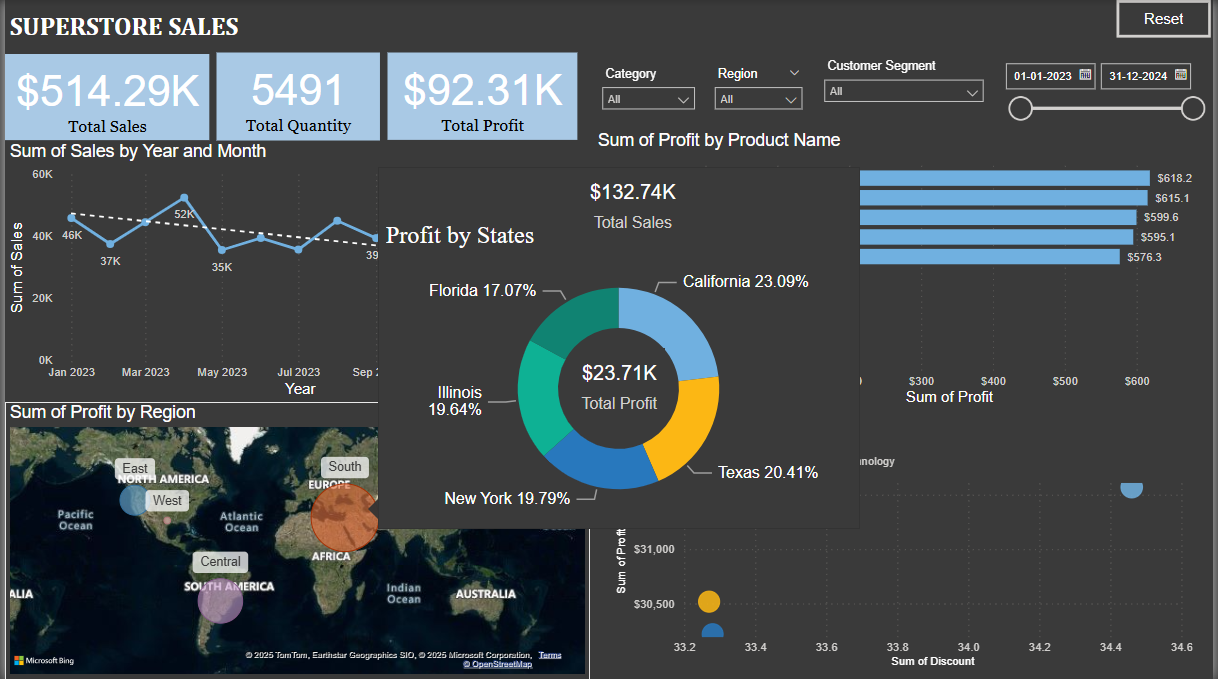

The dashboard page shown, as its layout file describes it:
{"tool":"powerbi","page":{"name":"Report","canvas":[1280,720],"ordinal":0},"visuals":[{"type":"card","fields":{"Values":["Sheet1.Total Sales"]},"box":[0,57.4,216.9,91.4],"z":0},{"type":"card","fields":{"Values":["Sheet1.Total Profit"]},"box":[405.6,56.4,201.3,92.4],"z":1000},{"type":"card","fields":{"Values":["Sheet1.Total Quantity"]},"box":[224.7,56.4,173.1,93.4],"z":2000},{"type":"lineChart","fields":{"Y":["Sum(Sheet1.Sales Amount)"],"Category":["DimDate.Date.Variation.Date Hierarchy.Year","DimDate.Date.Variation.Date Hierarchy.Month","DimDate.Date.Variation.Date Hierarchy.Day"]},"box":[0,149.8,585.5,276.2],"z":3000},{"type":"map","fields":{"Category":["Sheet1.Region"],"Size":["Sum(Sheet1.Profit)"]},"box":[0,426.3,619.7,293.7],"z":4000},{"type":"clusteredBarChart","fields":{"Y":["Sum(Sheet1.Profit)"],"Category":["Sheet1.Product Name"]},"box":[624.2,138.3,655.3,296.2],"z":5000},{"type":"scatterChart","title":"Discount on Profit","fields":{"X":["Sum(Sheet1.Discount)"],"Y":["Sum(Sheet1.Profit)"],"Size":["Sum(Sheet1.Sales Amount)"],"Series":["Sheet1.Category"]},"box":[642.9,449.6,621.6,262.5],"z":6000},{"type":"slicer","fields":{"Values":["DimDate.Date"]},"box":[1048.1,56.7,232.3,74.5],"z":7000},{"type":"slicer","fields":{"Values":["Sheet1.Region"]},"box":[742.2,64.7,112.6,60.3],"z":8000},{"type":"slicer","fields":{"Values":["Sheet1.Customer Segment"]},"box":[859.2,57.6,188.9,67.4],"z":9000},{"type":"slicer","fields":{"Values":["Sheet1.Category"]},"box":[624.2,64.7,117.9,60.3],"z":10000},{"type":"textbox","box":[0,6.8,271.4,43.8],"z":11000},{"type":"actionButton","box":[1179.3,0,100.2,39.9],"z":11001}]}

Visuals, with their boxes in screenshot pixels (x1, y1, x2, y2), scaled from the page's 1280x720 canvas onto the 1218x679 screenshot:
card - Sheet1.Total Sales: [0,54,206,140]
card - Sheet1.Total Profit: [386,53,578,140]
card - Sheet1.Total Quantity: [214,53,379,141]
lineChart - Sum(Sheet1.Sales Amount) x DimDate.Date.Variation.Date Hierarchy.Year: [0,141,557,402]
map - Sheet1.Region x Sum(Sheet1.Profit): [0,402,590,678]
clusteredBarChart - Sum(Sheet1.Profit) x Sheet1.Product Name: [594,130,1217,410]
"Discount on Profit" scatterChart: [612,424,1203,672]
slicer - DimDate.Date: [997,53,1217,124]
slicer - Sheet1.Region: [706,61,813,118]
slicer - Sheet1.Customer Segment: [818,54,997,118]
slicer - Sheet1.Category: [594,61,706,118]
textbox: [0,6,258,48]
actionButton: [1122,0,1217,38]
